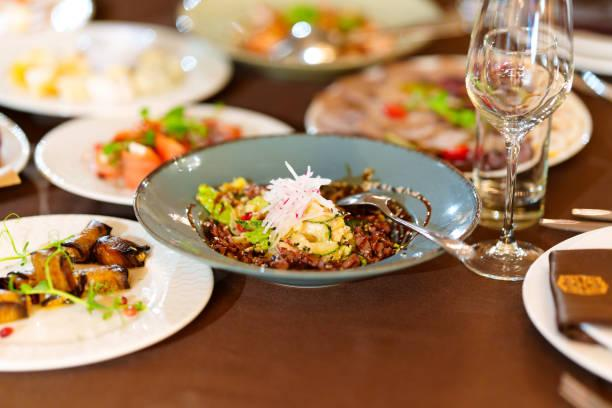Braised Crucian Carp: (133, 131, 485, 290)
